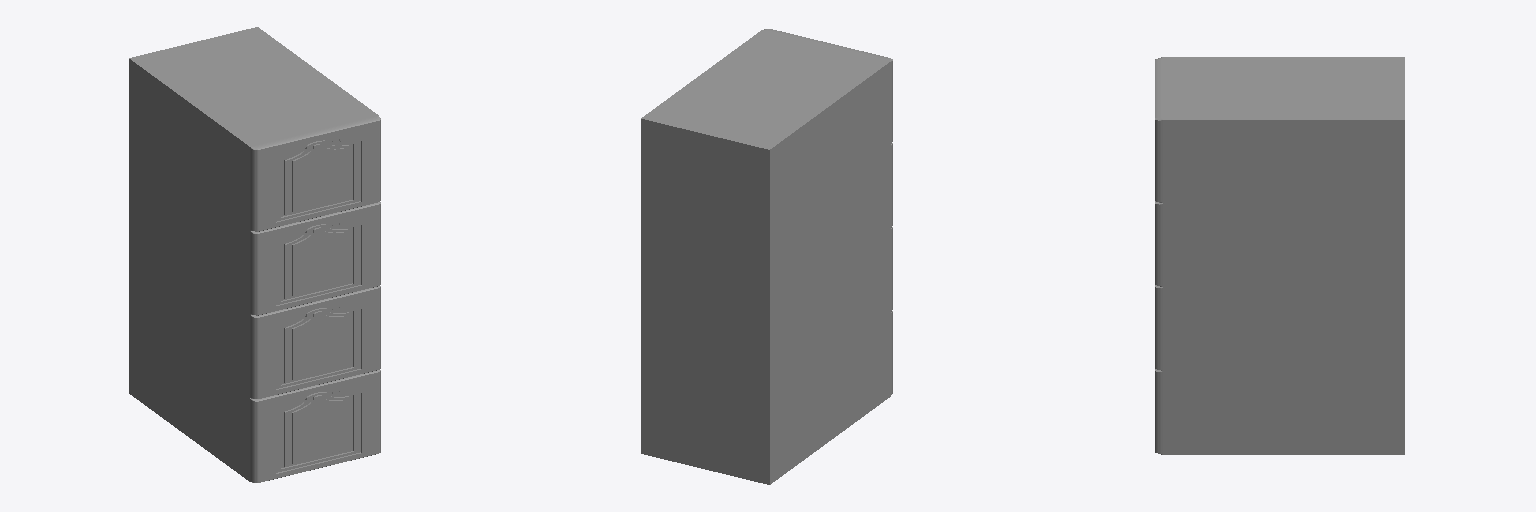
File: drawer-pack-350.obj
3 renders of one model, left to right at view 1: azimuth 30°, elevation 25°; view 2: azimuth 150°, elevation 25°; view 3: azimuth 270°, elevation 25°, orthographic.
Visible parts, largest first — view 1: Cube.002_Cube.004, Cube_Cube.002, Cube.006_Cube.005, Cube.003_Cube.008, Cube.005_Cube.001, Cube.004_Cube.000, Cube.001_Cube.003; view 2: Cube_Cube.002, Cube.002_Cube.004, Cube.001_Cube.003, Cube.006_Cube.005; view 3: Cube.001_Cube.003, Cube_Cube.002, Cube.006_Cube.005, Cube.002_Cube.004, Cube.003_Cube.008, Cube.004_Cube.000, Cube.005_Cube.001.
Part boxes in pixels (bbox=[...]): Cube.002_Cube.004: bbox=[129, 57, 254, 481]; Cube_Cube.002: bbox=[135, 28, 372, 145]; Cube.006_Cube.005: bbox=[250, 116, 380, 231]; Cube.003_Cube.008: bbox=[250, 370, 380, 482]; Cube.005_Cube.001: bbox=[250, 202, 380, 315]; Cube.004_Cube.000: bbox=[250, 286, 380, 398]; Cube.001_Cube.003: bbox=[253, 27, 378, 116]; Cube_Cube.002: bbox=[646, 31, 884, 483]; Cube.002_Cube.004: bbox=[764, 60, 890, 484]; Cube.001_Cube.003: bbox=[641, 30, 766, 454]; Cube.006_Cube.005: bbox=[764, 29, 892, 143]; Cube.001_Cube.003: bbox=[1163, 117, 1404, 454]; Cube_Cube.002: bbox=[1163, 60, 1404, 116]; Cube.006_Cube.005: bbox=[1155, 57, 1162, 202]; Cube.002_Cube.004: bbox=[1163, 57, 1404, 59]; Cube.003_Cube.008: bbox=[1155, 369, 1162, 454]; Cube.004_Cube.000: bbox=[1155, 285, 1162, 370]; Cube.005_Cube.001: bbox=[1155, 201, 1162, 286].
Bounding box in the file's own units: 70 × 174 × 118.